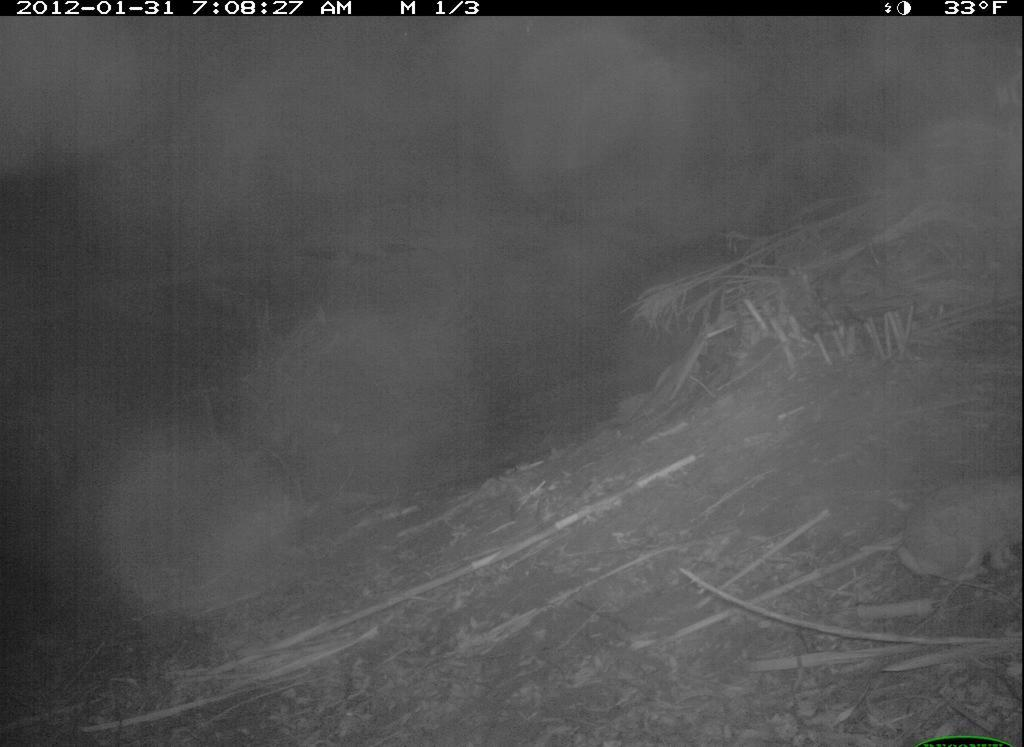rabbit: (891, 451, 1024, 598)
